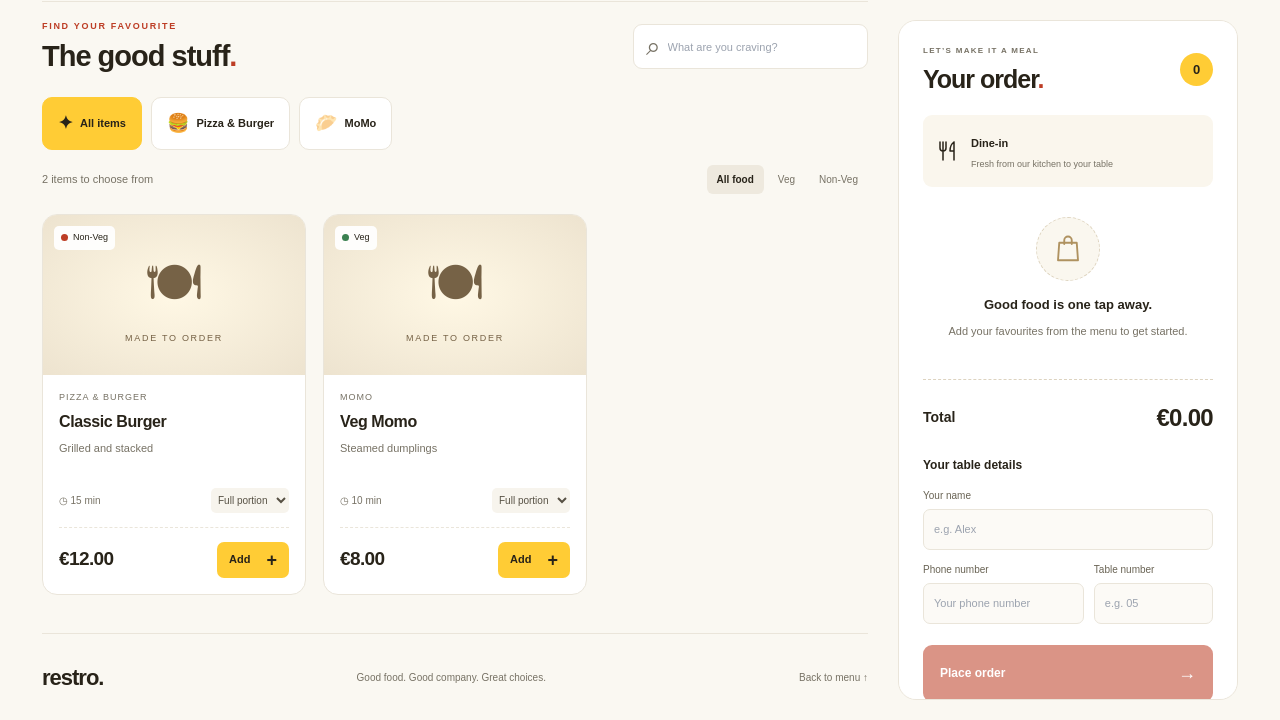
Test: sends selected portions and customer details, then starts a new order
(page scrolled)
Expected: the button with aria-label "Add Classic Burger, full portion" is shown, [217,542,289,578]
Select "Half portion" in the dropdown named "Portion for Classic Burger" at (250,500), box [211,488,289,513]
Click the button with aria-label "Add Classic Burger, half portion" at (253,560), box [217,542,289,578]
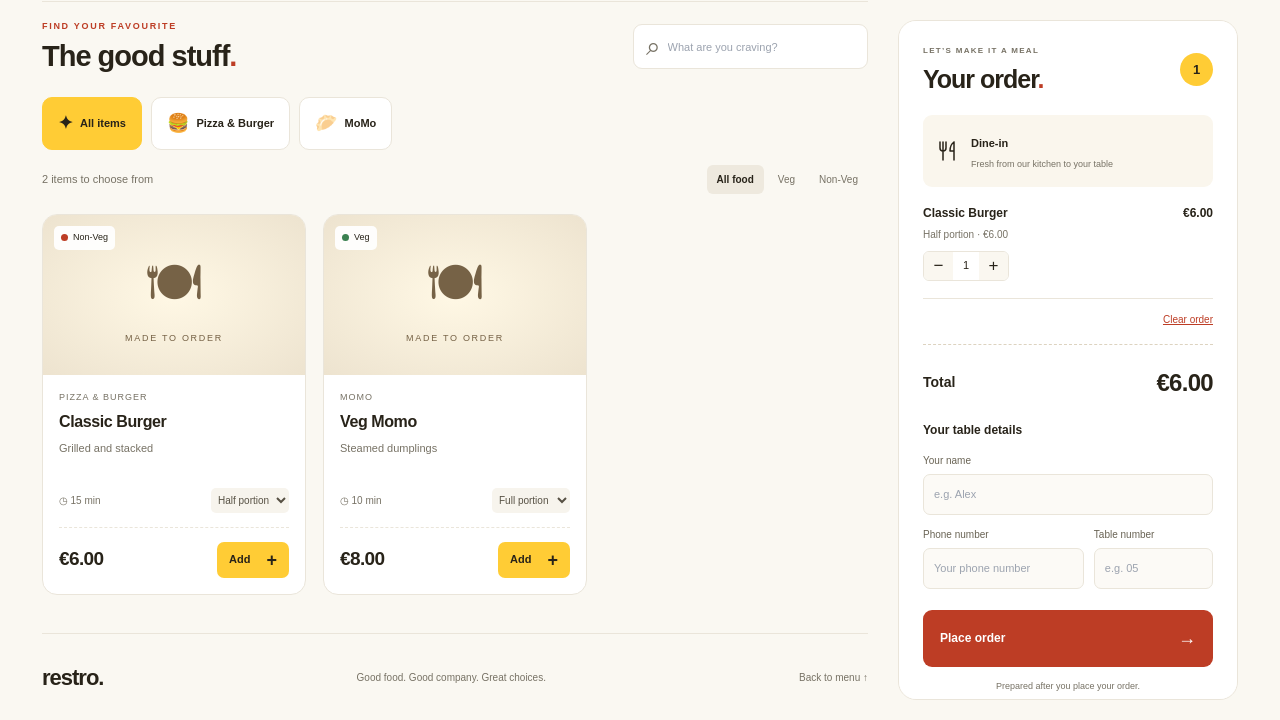
Type "Alex" into the field labelled "Your name" at (1068,494), box [923,474,1213,514]
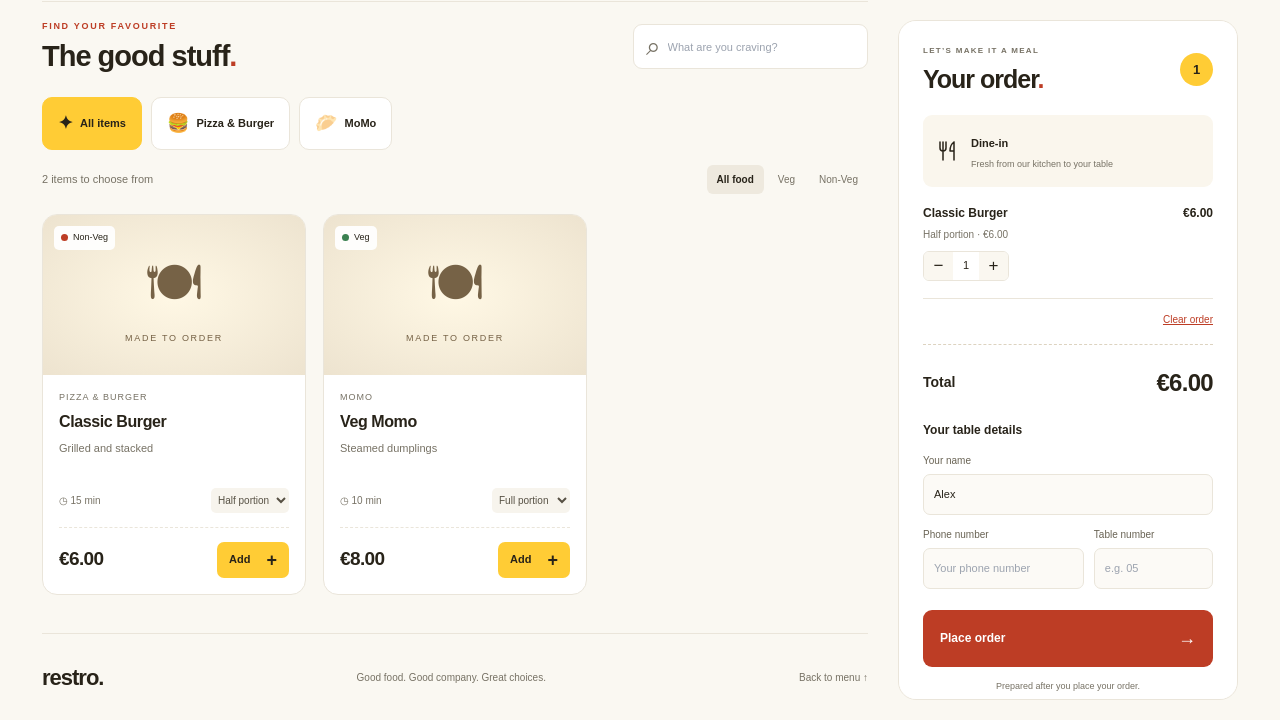
Type "123456789" into the field labelled "Phone number" at (1003,568), box [923,548,1084,588]
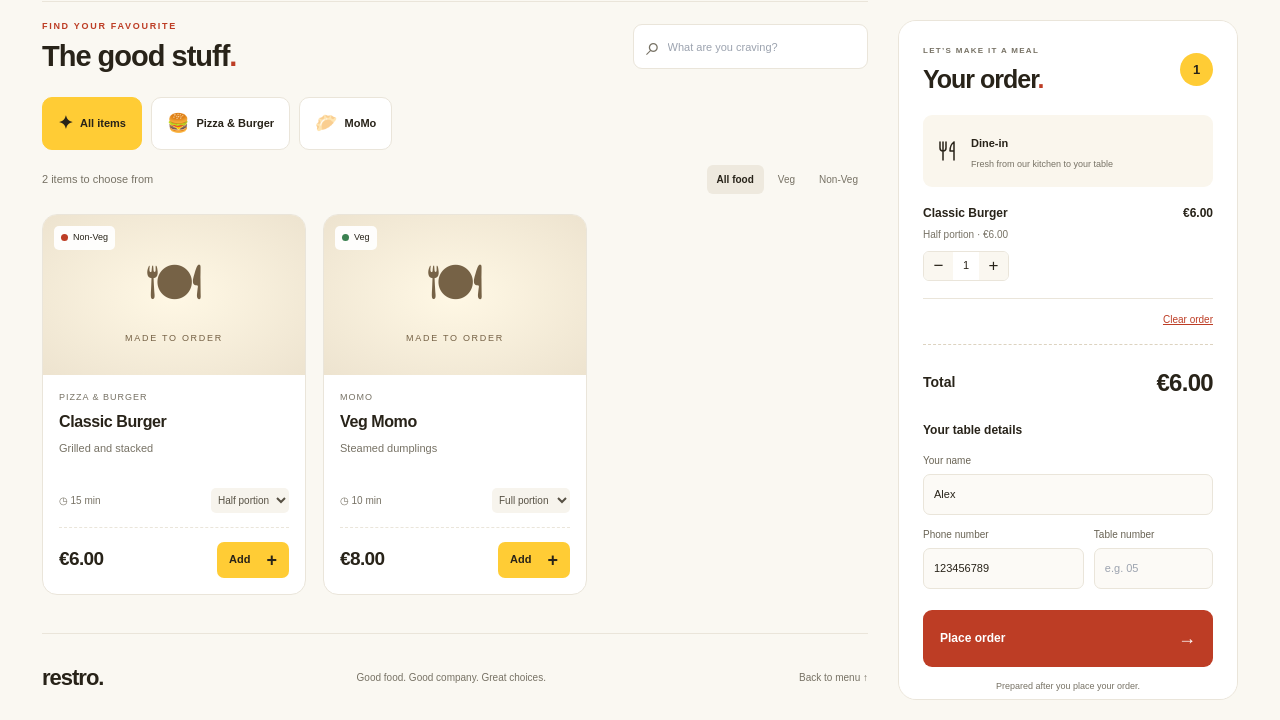
Type "5" into the field labelled "Table number" at (1153,568), box [1094,548,1213,588]
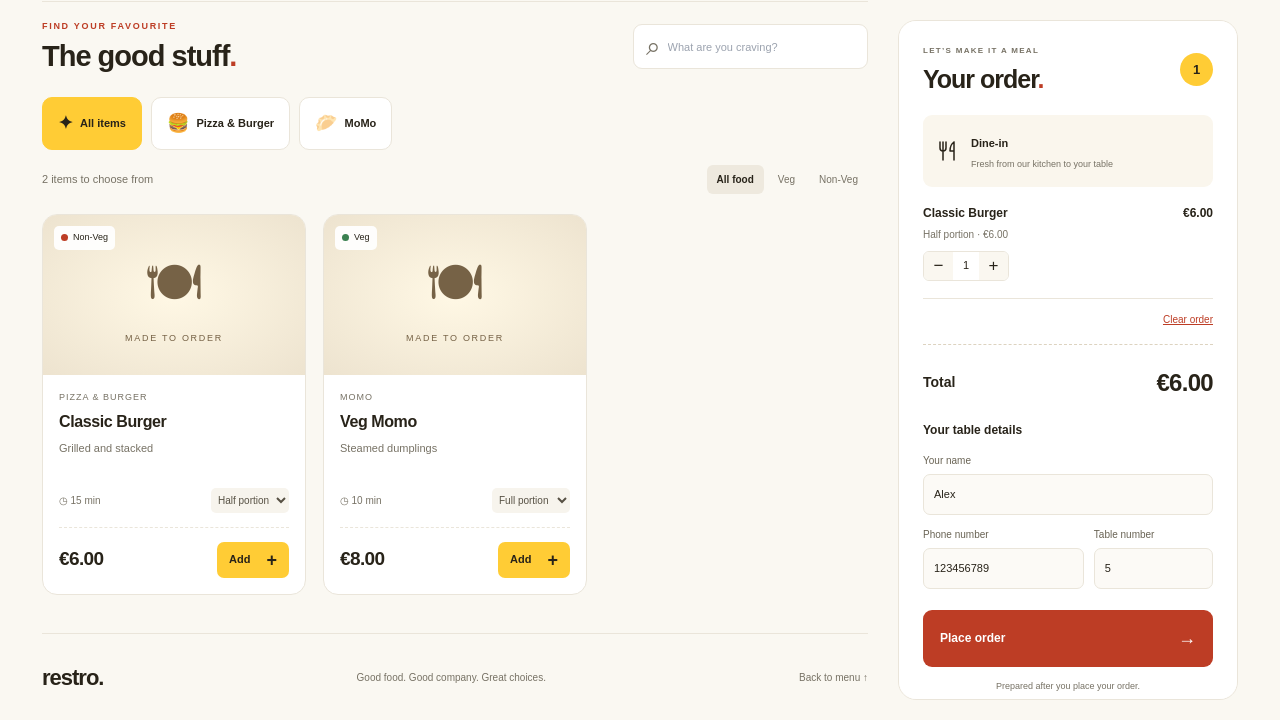
Click the button "Place order →" at (973,638), box [923,610,1213,666]
(page scrolled)
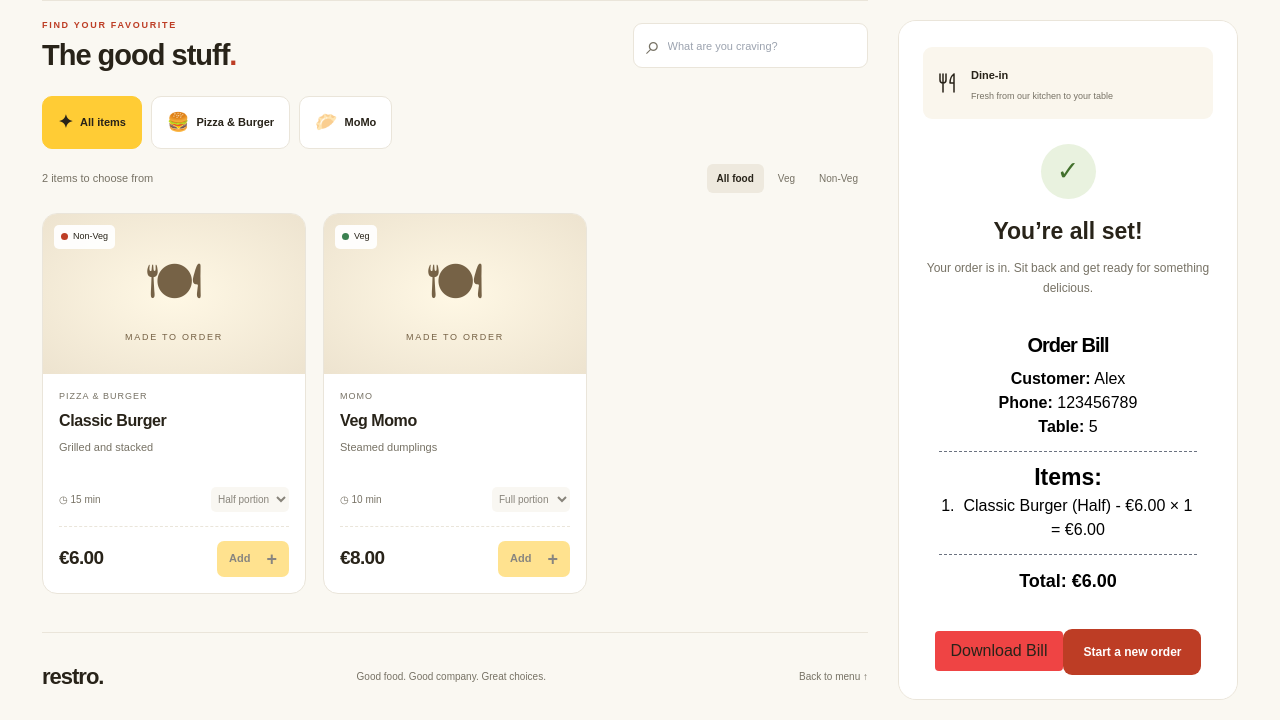
Expected: the heading "You’re all set!" is shown, [993,218,1142,244]
Click the button "Start a new order" at (1132,652), box [1064,629,1202,675]
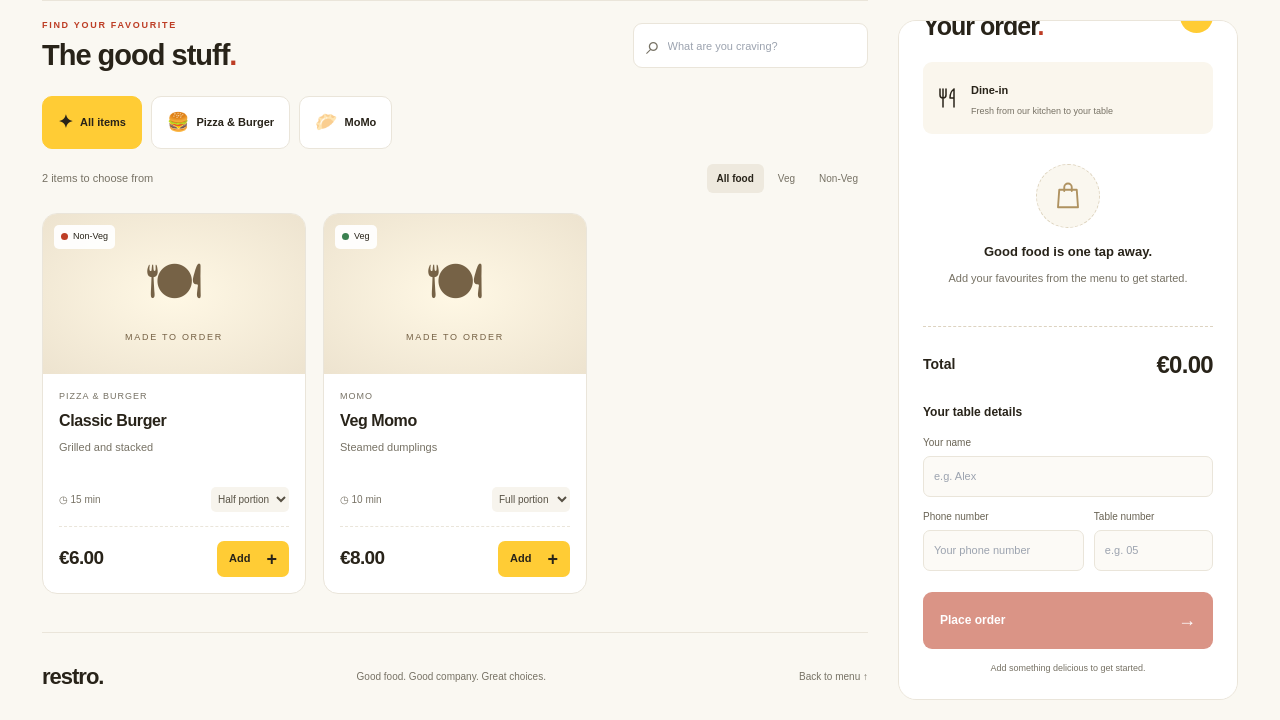
Expected: the button "Place order →" is disabled, [923,592,1213,649]
Expected: the field labelled "Your name" is empty, [923,456,1213,497]
